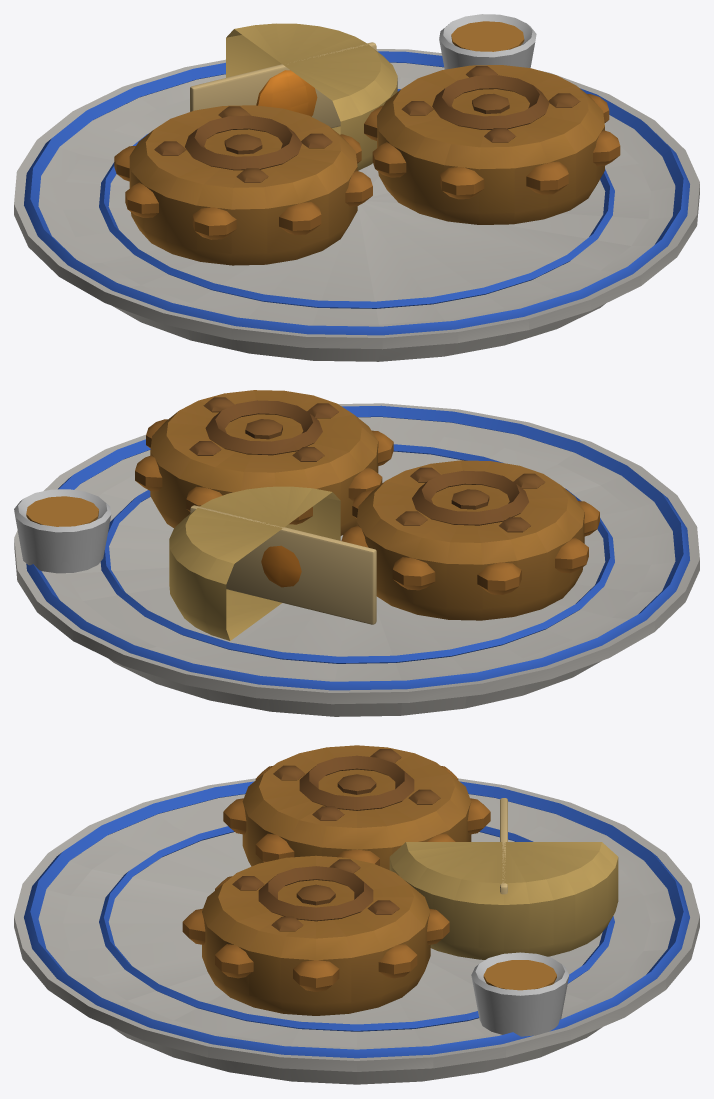
The model's file is pp-mooncakes.glb.
3 views of the same model, one above another, from view 1: azimuth 30°, elevation 25°; view 2: azimuth 150°, elevation 25°; view 3: azimuth 270°, elevation 25° (orthographic).
Size of the model in its own units: 0.84 by 0.174 by 0.84.
